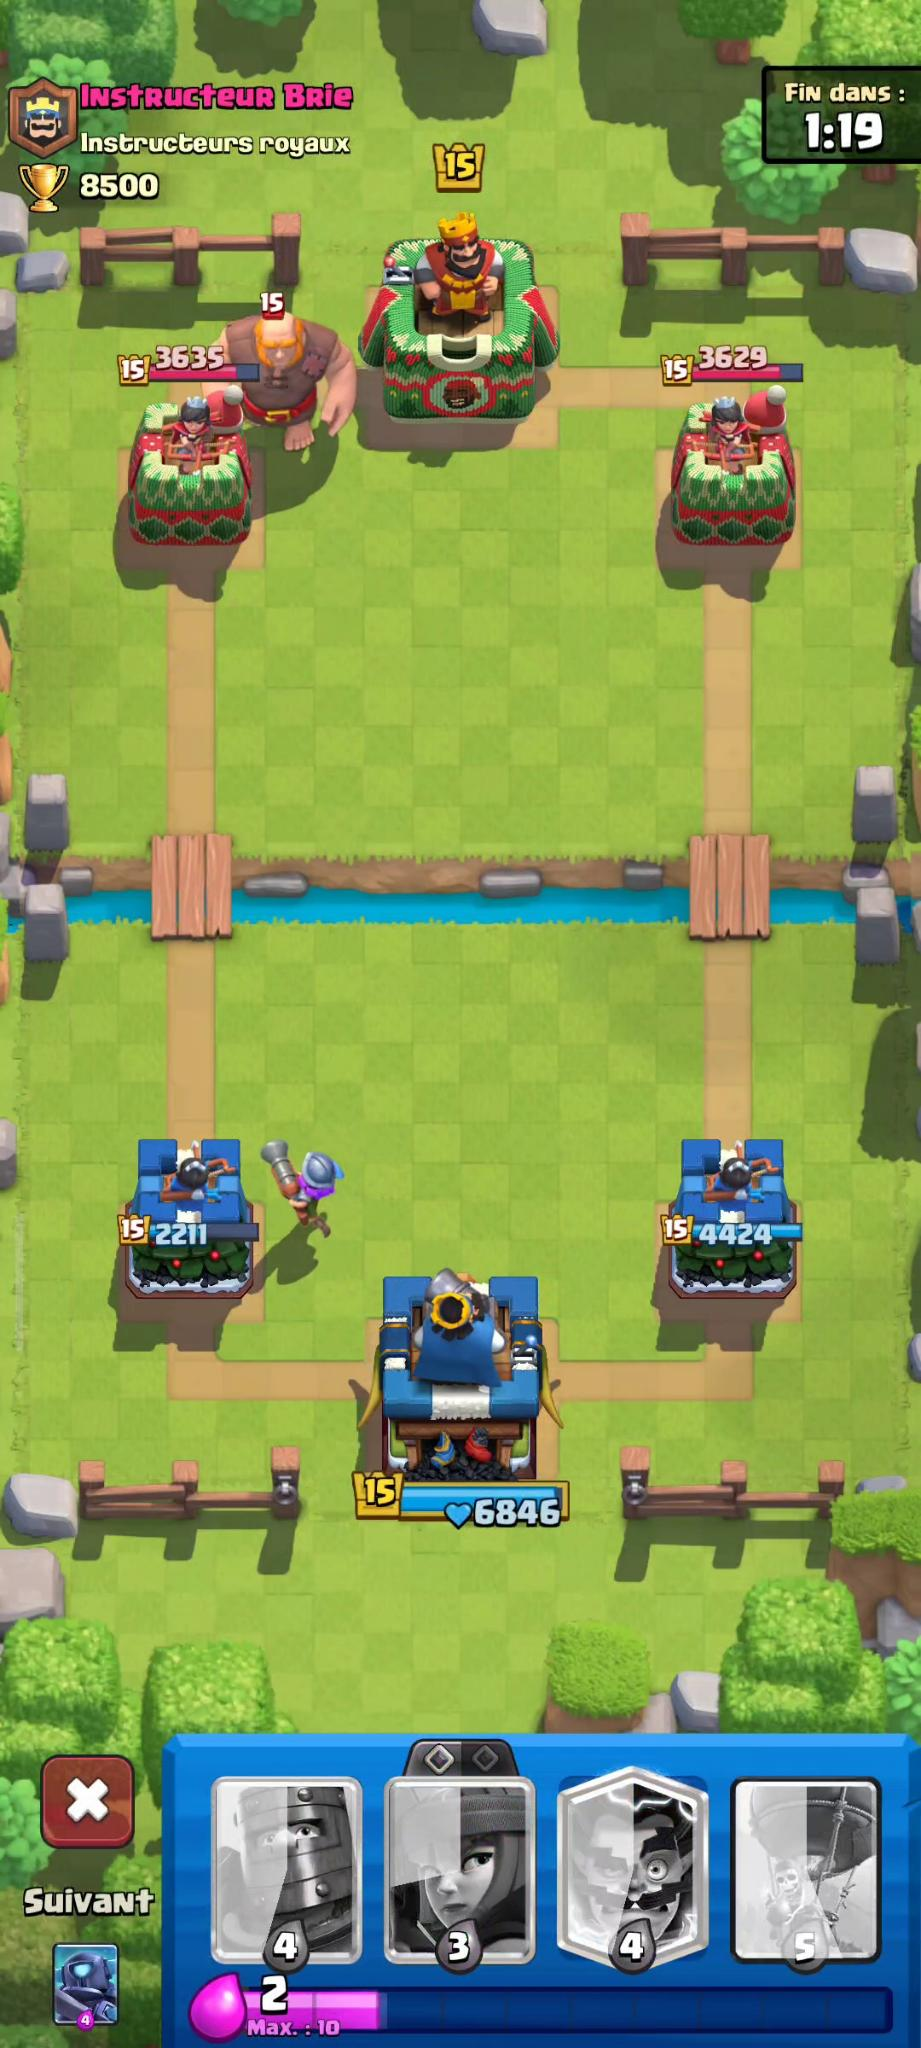geant: (206, 300, 367, 472)
mousquetaire: (257, 1131, 362, 1264)
